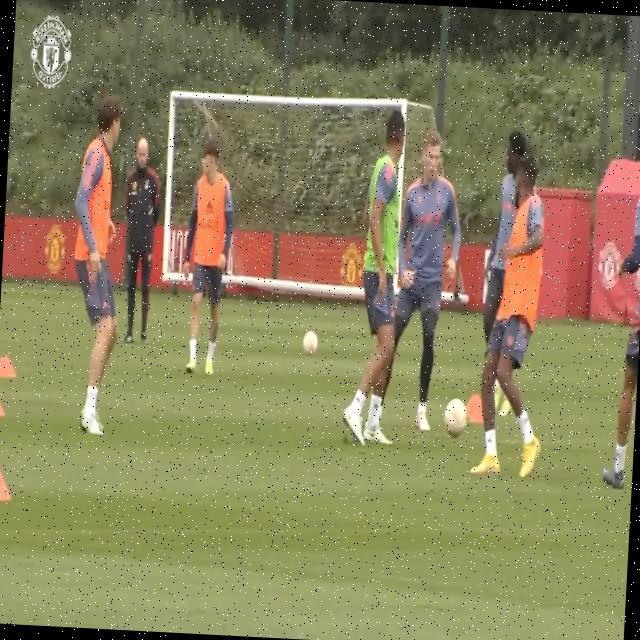Adidas: (204, 199, 215, 217)
